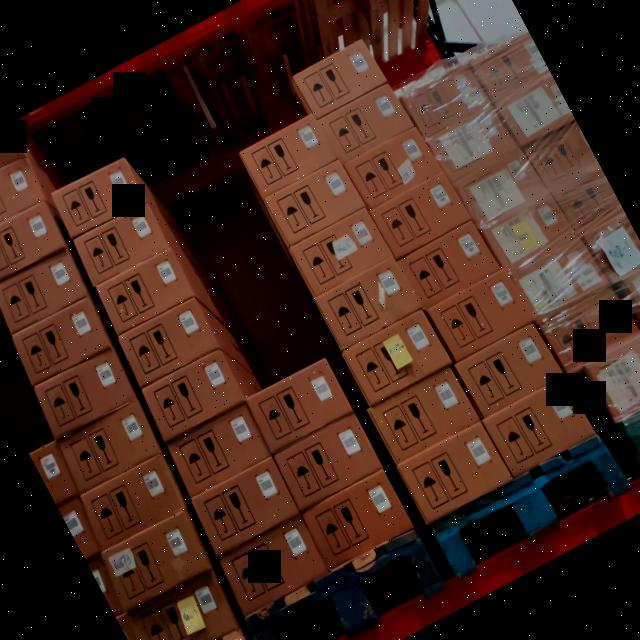box: (400, 426, 511, 522), (303, 474, 412, 566), (345, 312, 450, 403), (486, 381, 591, 472), (431, 266, 534, 358), (458, 325, 562, 416), (372, 371, 476, 460), (277, 418, 380, 507), (248, 358, 349, 448), (316, 258, 418, 347), (222, 518, 324, 606), (166, 404, 267, 491), (292, 212, 393, 298), (240, 114, 338, 200), (194, 465, 295, 547), (267, 162, 365, 245), (144, 354, 241, 436), (374, 172, 469, 255), (400, 224, 496, 304), (98, 250, 190, 331), (120, 302, 214, 381), (347, 126, 439, 206), (54, 156, 146, 236), (74, 204, 166, 284), (297, 42, 384, 114), (325, 88, 408, 158)
